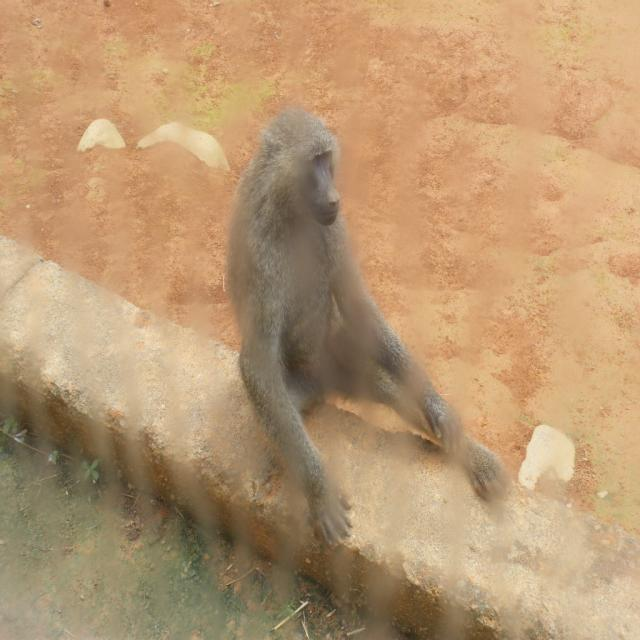Monkey: (211, 112, 511, 558)
